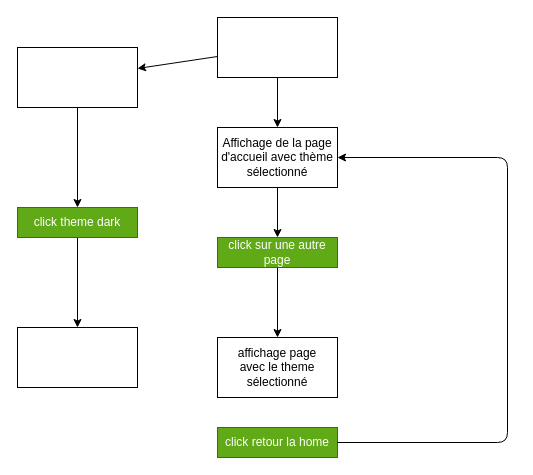
Some shapes in this 533 by 475 pixel diagram are drawn without their labels. Each missing label, with the centre of its shape:
Arrivé sur le site: [277,47]
theme dark: [77,357]
theme light: [77,77]
